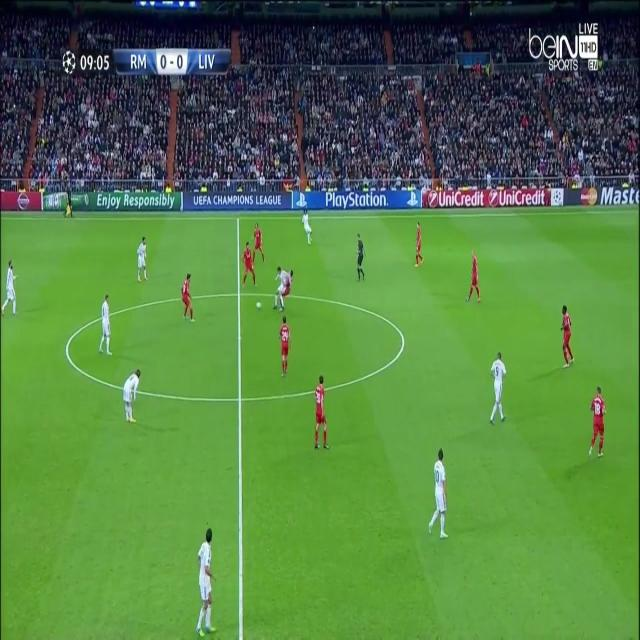Ball: (255, 295, 263, 314)
Player: (195, 524, 220, 638), (424, 446, 451, 543), (585, 383, 608, 458), (487, 351, 509, 429), (311, 372, 329, 456), (96, 292, 115, 360), (558, 302, 576, 373), (122, 364, 142, 426), (1, 256, 20, 320), (180, 268, 198, 329), (271, 262, 291, 316), (239, 242, 260, 292), (466, 251, 483, 308), (277, 316, 291, 379), (136, 231, 151, 286), (412, 218, 427, 272), (252, 220, 267, 265), (302, 206, 314, 250)
Referee: (355, 232, 370, 286), (64, 179, 75, 220)
